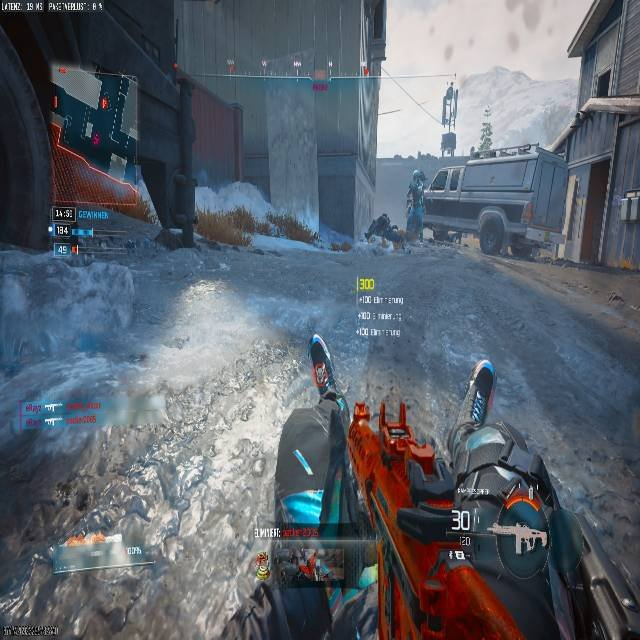player: (247, 551, 272, 620)
